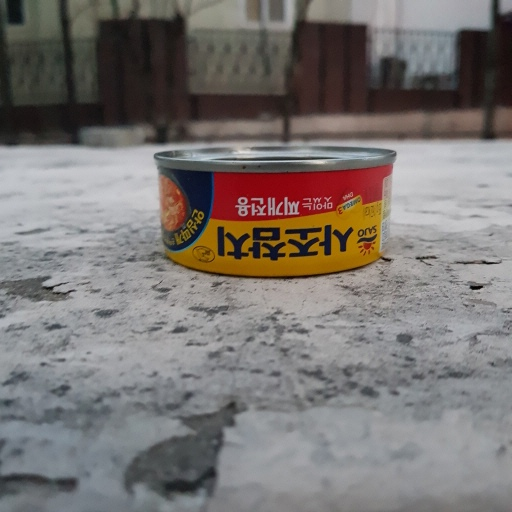Metal_1: (150, 139, 399, 274)
